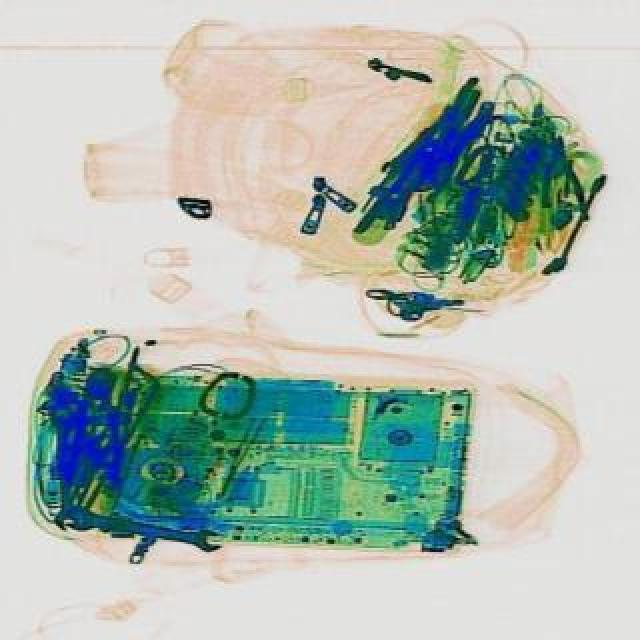scissors: (66, 504, 222, 552), (44, 400, 80, 528)
